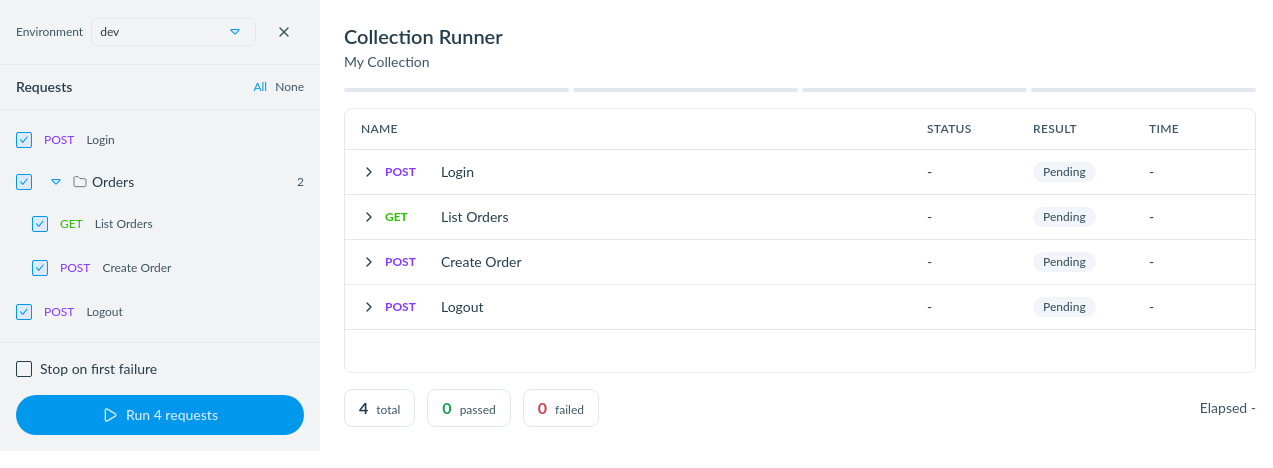
CollectionRunner rendering › uses the singular label when only one request is selected
Click the button "None". click: (290, 87)
box: [275, 79, 304, 95]
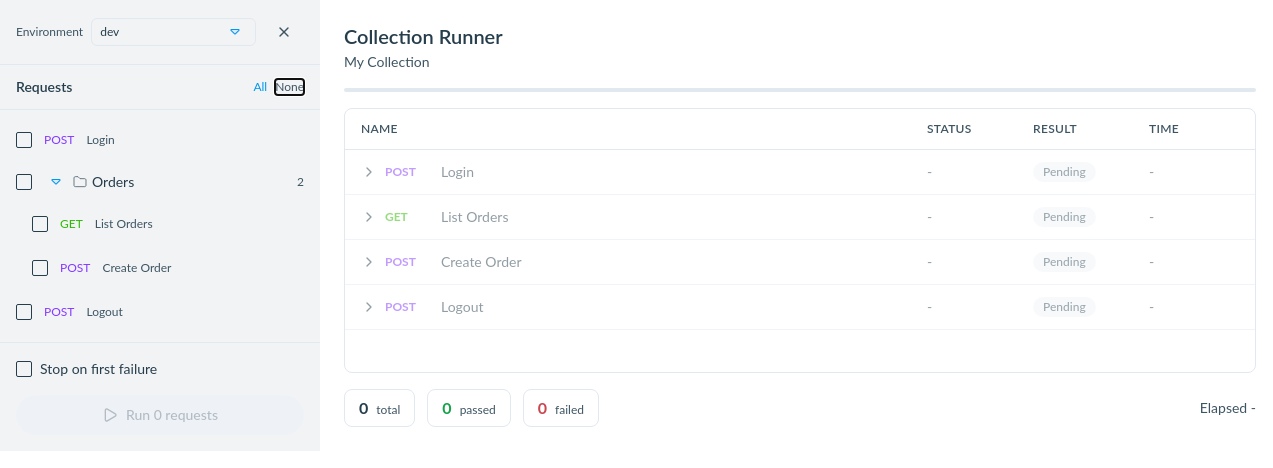
Click the 1st checkbox. click: (24, 140)
box: [16, 132, 32, 148]
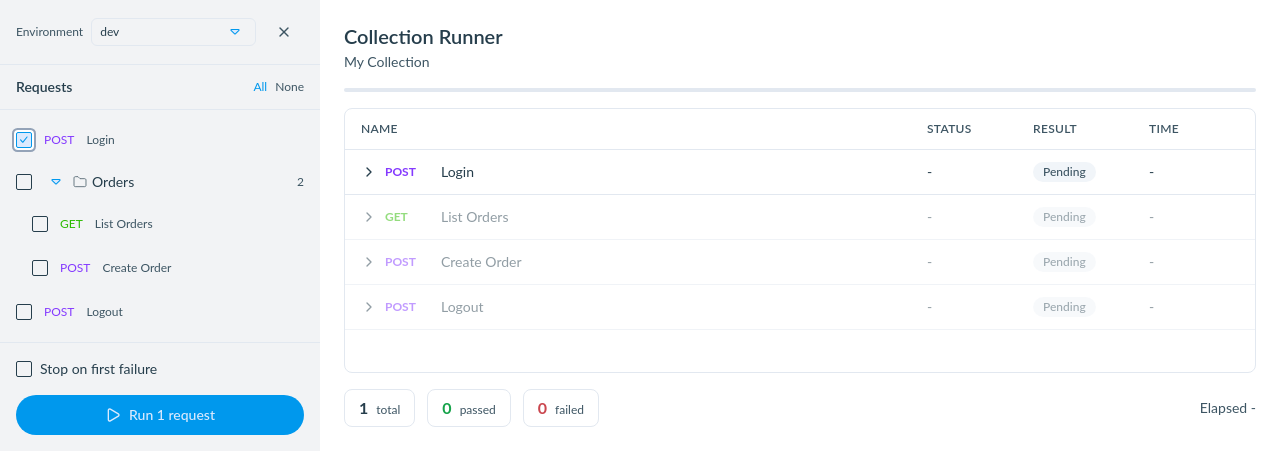
Expected: the button "Run 1 request" is shown, [16, 395, 304, 435]
